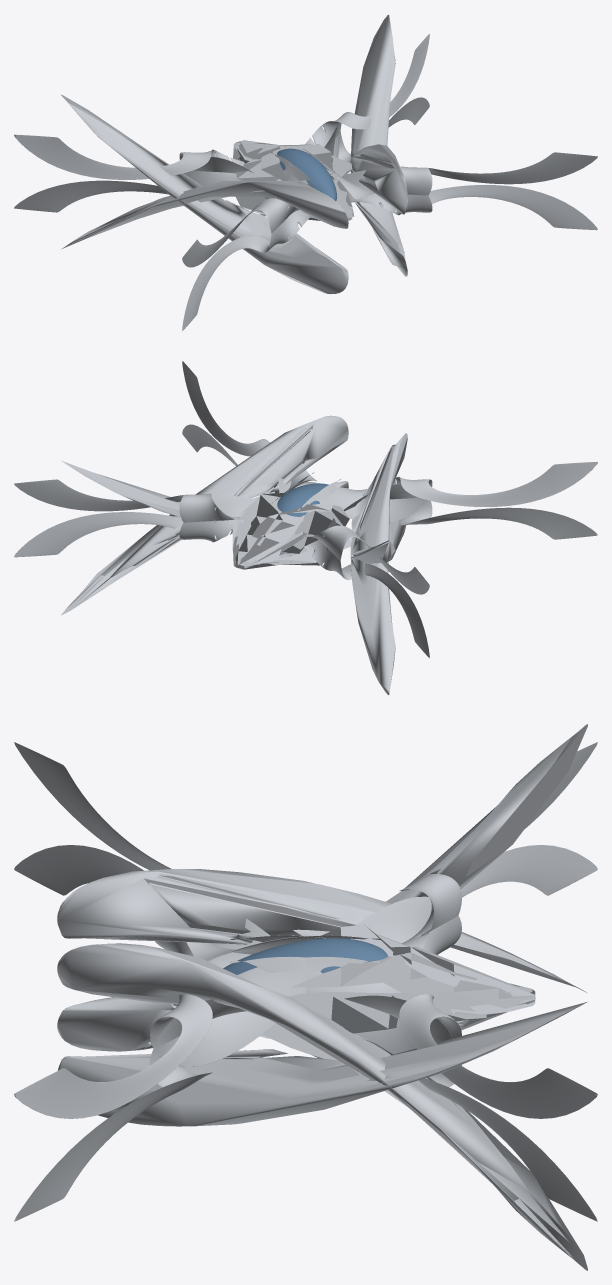
The model's file is ENE013.glb.
3 renders of one model, top to bottom at view 1: azimuth 30°, elevation 25°; view 2: azimuth 150°, elevation 25°; view 3: azimuth 270°, elevation 25°, orthographic. The views are drawn at different scales.
Parts seen in each view (by area): view 1: assembly_wing_r, assembly_subwing_r, assembly_fuselage, assembly_canopy; view 2: assembly_wing_r, assembly_subwing_r, assembly_fuselage, assembly_canopy; view 3: assembly_subwing_r, assembly_wing_r, assembly_fuselage, assembly_canopy.
Part boxes in pixels (bbox=[...]): assembly_wing_r: bbox=[14, 34, 597, 330]; assembly_subwing_r: bbox=[61, 14, 407, 294]; assembly_fuselage: bbox=[233, 140, 354, 220]; assembly_canopy: bbox=[277, 148, 336, 200]; assembly_wing_r: bbox=[14, 361, 597, 658]; assembly_subwing_r: bbox=[61, 415, 407, 695]; assembly_fuselage: bbox=[232, 486, 352, 569]; assembly_canopy: bbox=[277, 483, 328, 516]; assembly_subwing_r: bbox=[57, 724, 587, 1270]; assembly_wing_r: bbox=[14, 742, 597, 1221]; assembly_fuselage: bbox=[171, 924, 535, 1060]; assembly_canopy: bbox=[223, 938, 387, 974].
Size of the model in its own units: 8.62 by 3.07 by 6.04.
